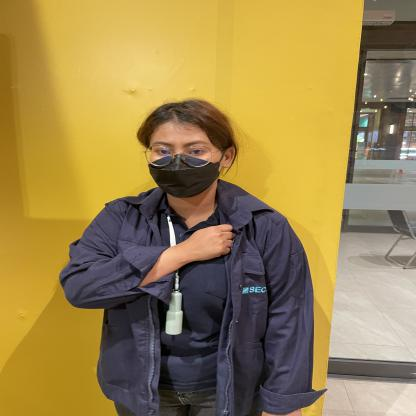Sadness: (146, 209, 276, 291)
